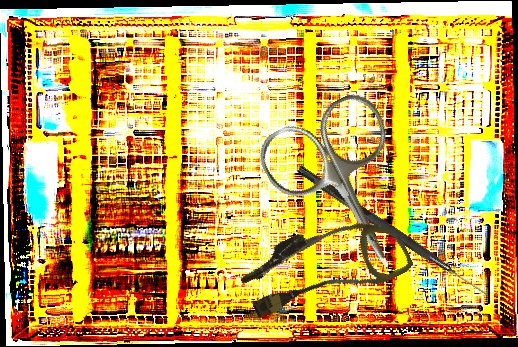Cannula: (233, 195, 416, 337)
Hook Surgical: (295, 165, 491, 298)
Iris Scissors: (251, 86, 443, 297)
